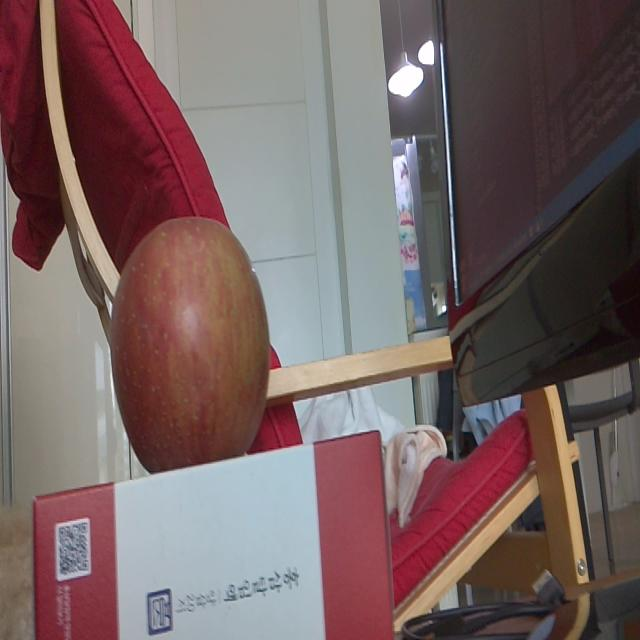apple: (108, 212, 274, 460)
